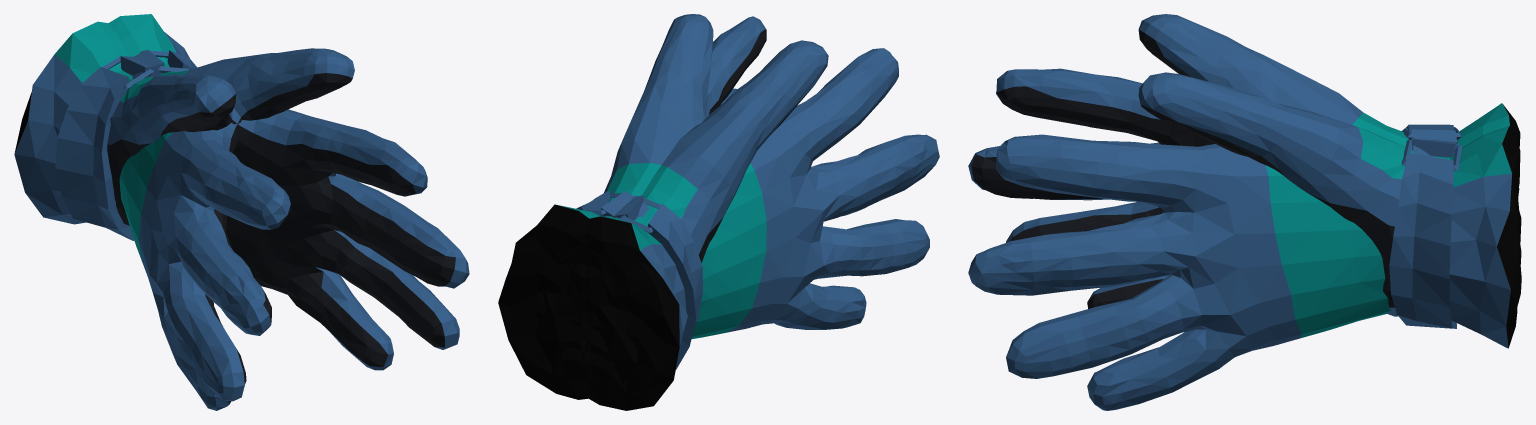
The model's file is Gloves.fbx.
3 views of the same model, side by side, from view 1: azimuth 30°, elevation 25°; view 2: azimuth 150°, elevation 25°; view 3: azimuth 270°, elevation 25° (orthographic). The views are drawn at different scales.
Parts seen in each view (by area): view 1: left_glove, right_glove; view 2: right_glove, left_glove; view 3: left_glove, right_glove.
Part boxes in pixels (x1,y1,x2,y2): left_glove: [14, 21, 469, 370]; right_glove: [108, 14, 354, 410]; right_glove: [498, 14, 939, 399]; left_glove: [536, 16, 828, 410]; left_glove: [968, 14, 1521, 410]; right_glove: [968, 68, 1521, 348].
Size of the model in its own units: 11.75 by 14.19 by 22.12.
